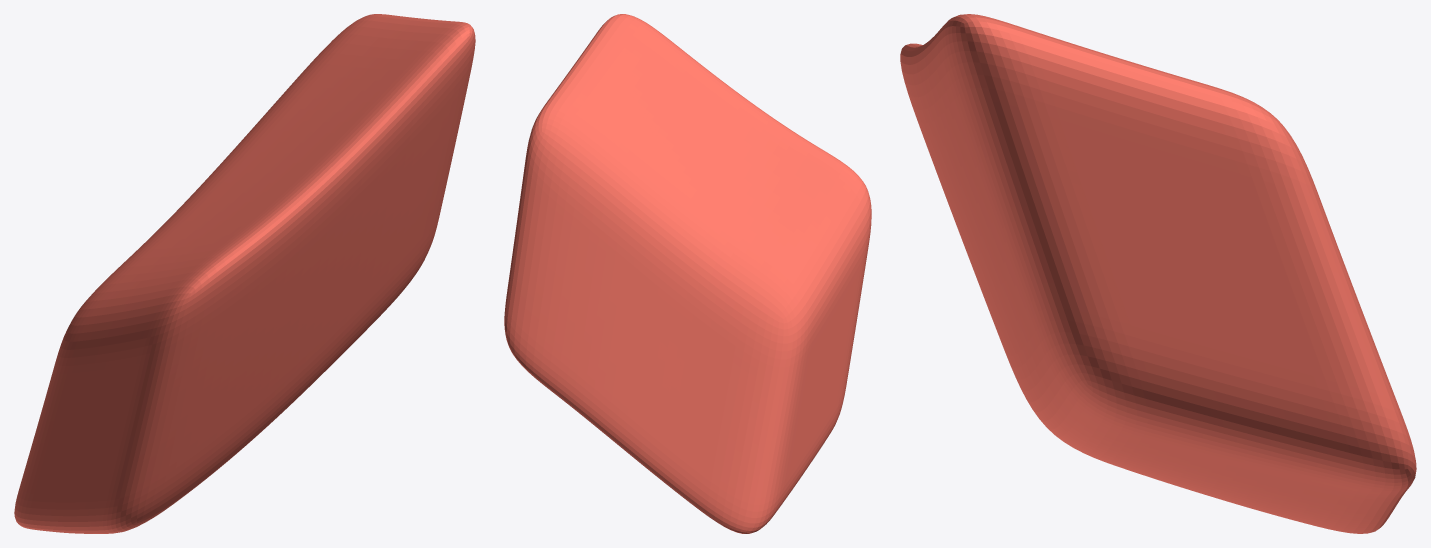
The picture shows the model from 3 angles, left to right: view 1: azimuth 30°, elevation 25°; view 2: azimuth 150°, elevation 25°; view 3: azimuth 270°, elevation 25°; orthographic projection. The views are drawn at different scales.
Visible parts, largest first — view 1: waves_1.032; view 2: waves_1.032; view 3: waves_1.032.
Part boxes in pixels (<box>): waves_1.032: <box>14,14,475,533</box>; waves_1.032: <box>504,14,871,533</box>; waves_1.032: <box>900,14,1416,533</box>.
Size of the model in its own units: 30.42 by 43.9 by 28.81.
